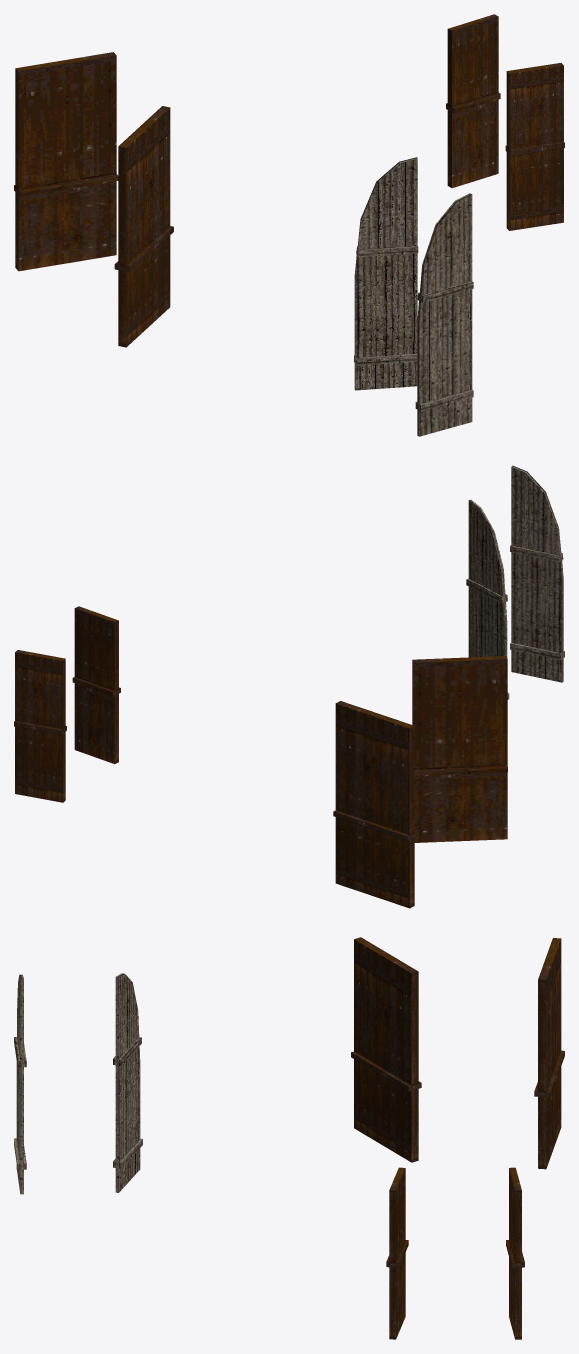
The model's file is doors.fbx.
3 views of the same model, one above another, from view 1: azimuth 30°, elevation 25°; view 2: azimuth 150°, elevation 25°; view 3: azimuth 270°, elevation 25° (orthographic). The views are drawn at different scales.
Parts seen in each view (by area): view 1: Barn.Big.Door.001, Tower.Door.Inside.001, Barn.Small.Door.001; view 2: Barn.Big.Door.001, Tower.Door.Inside.001, Barn.Small.Door.001; view 3: Barn.Big.Door.001, Tower.Door.Inside.001, Barn.Small.Door.001.
Part boxes in pixels (x1,y1,x2,y2): Barn.Big.Door.001: (14,52,173,347); Tower.Door.Inside.001: (354,157,473,436); Barn.Small.Door.001: (446,14,564,230); Barn.Big.Door.001: (333,656,507,908); Tower.Door.Inside.001: (466,465,564,699); Barn.Small.Door.001: (14,606,120,802); Barn.Big.Door.001: (351,937,564,1169); Tower.Door.Inside.001: (14,973,142,1194); Barn.Small.Door.001: (386,1167,524,1339).
Bounding box in the file's own units: 7.41 × 3.67 × 8.05.
